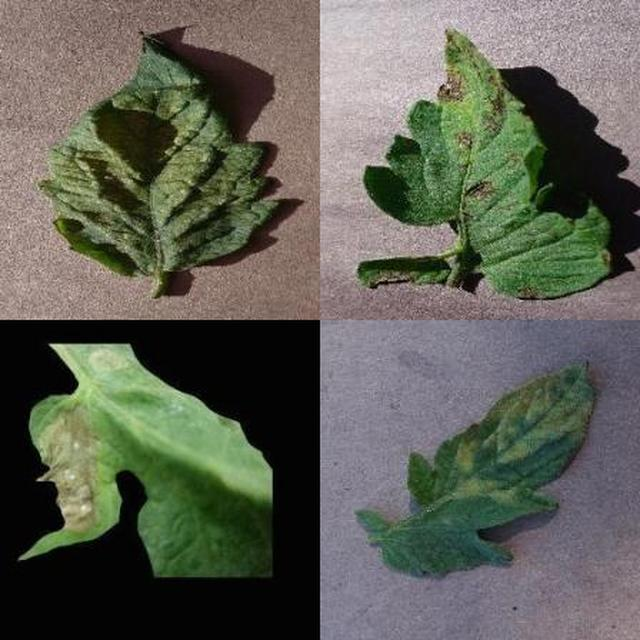Spider Mites Leaf: (208, 221, 640, 640)
